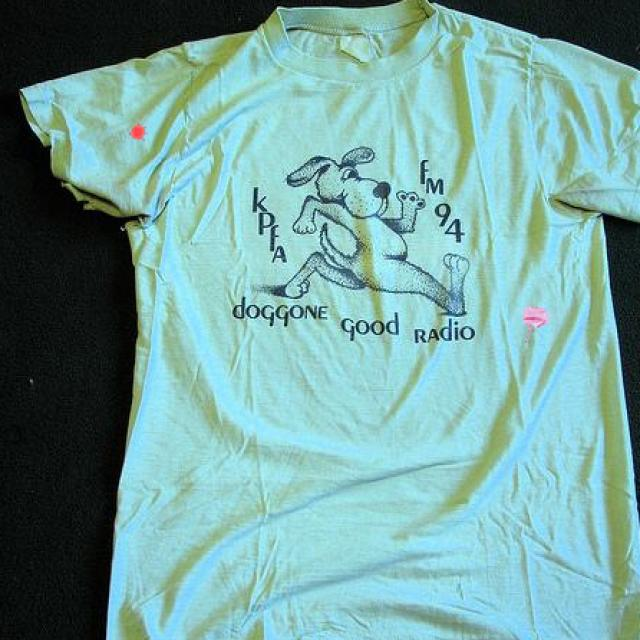stain: (513, 301, 557, 333), (123, 122, 150, 146)
